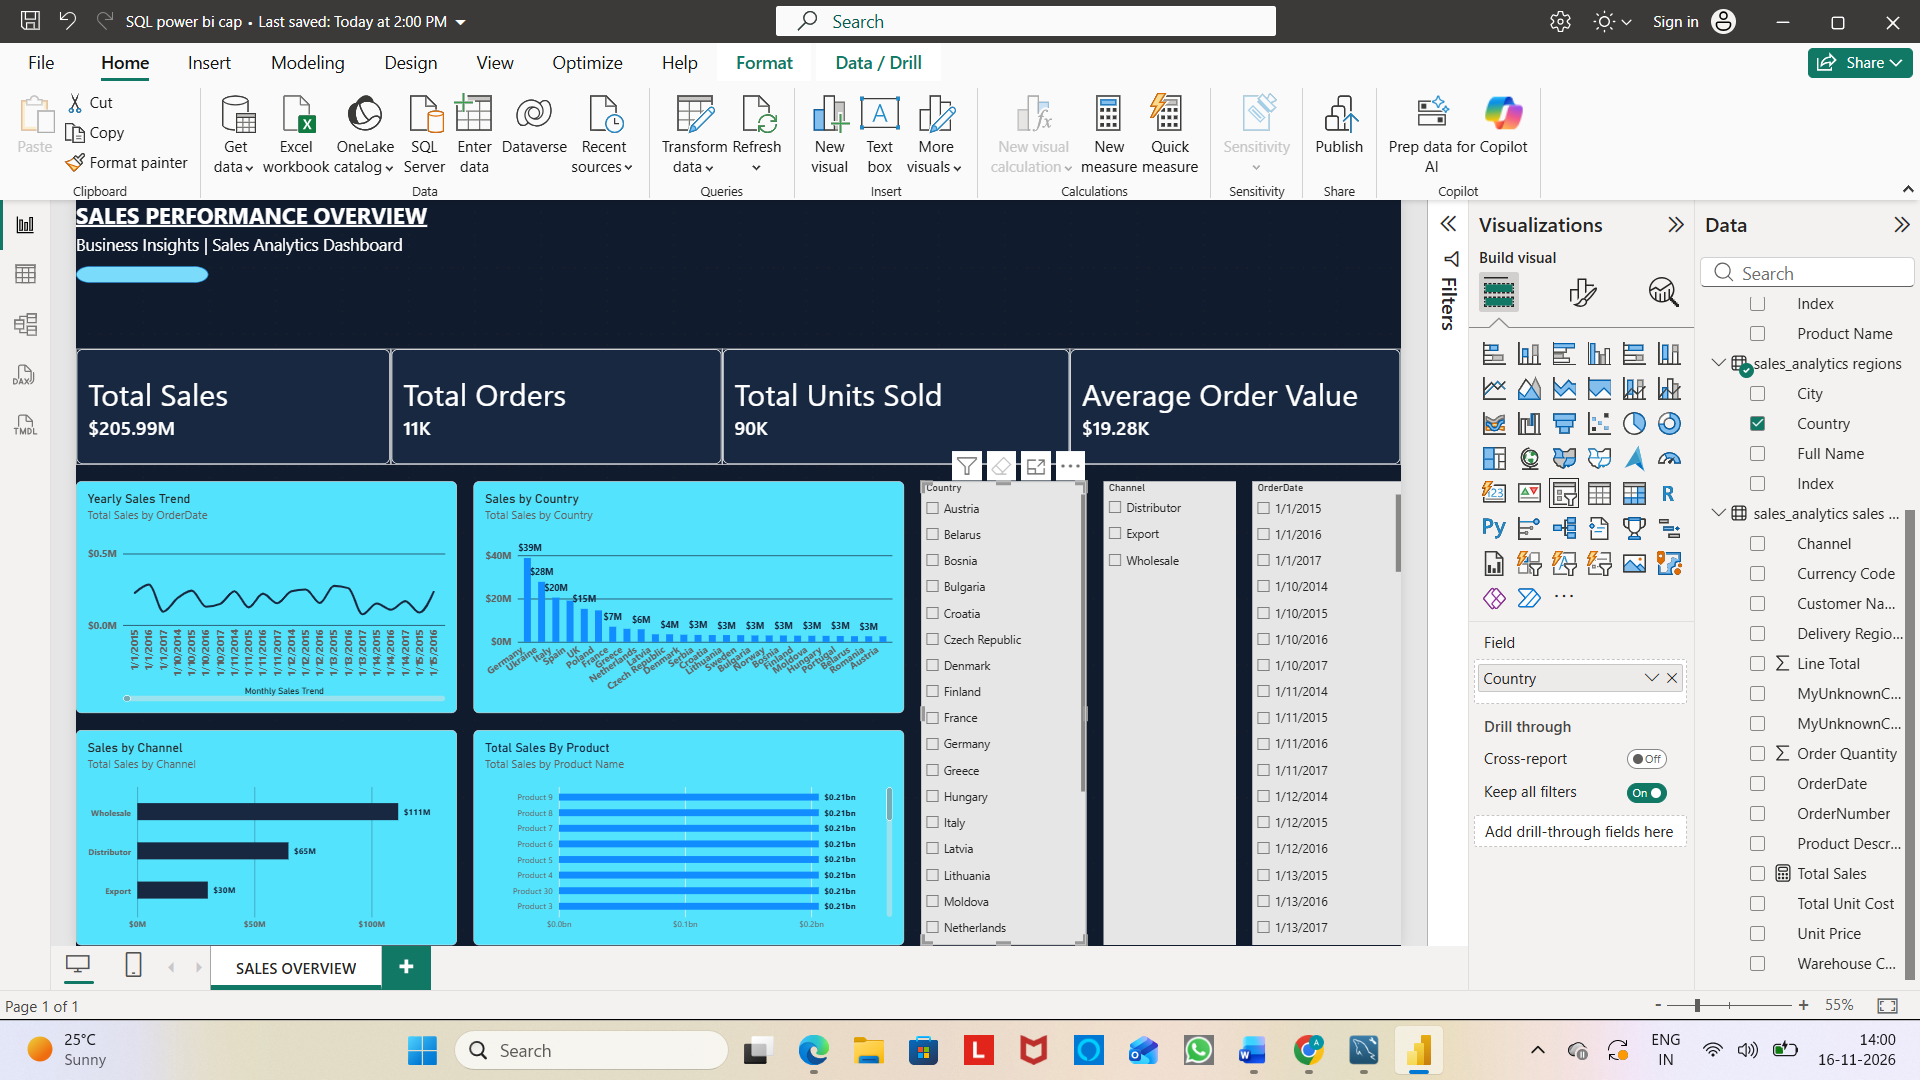

This screenshot's page, from the dashboard's own definition file:
{"tool":"powerbi","page":{"name":"SALES OVERVIEW","canvas":[1920,1080],"ordinal":0},"visuals":[{"type":"textbox","box":[0,0,1920,96],"z":0},{"type":"textbox","box":[0,48,1920,72],"z":1000},{"type":"shape","box":[0,96,192,24],"z":2000},{"type":"cardVisual","fields":{"Data":["sales_analytics sales order.Total Sales"]},"box":[0,216,456,168],"z":3000},{"type":"cardVisual","fields":{"Data":["sales_analytics 2017 budgets.Total Orders"]},"box":[456,216,480,168],"z":4000},{"type":"cardVisual","fields":{"Data":["sales_analytics 2017 budgets.Total Units Sold"]},"box":[936,216,504,168],"z":5000},{"type":"cardVisual","fields":{"Data":["sales_analytics 2017 budgets.Average Order Value"]},"box":[1440,216,480,168],"z":6000},{"type":"lineChart","title":"\tYearly Sales Trend","fields":{"Category":["sales_analytics sales order.OrderDate"],"Y":["sales_analytics sales order.Total Sales"]},"box":[0,408,552,336],"z":6001},{"type":"clusteredBarChart","title":"Sales by Channel","fields":{"Category":["sales_analytics sales order.Channel"],"Y":["sales_analytics sales order.Total Sales"]},"box":[0,768,552,312],"z":6002},{"type":"clusteredColumnChart","title":"Sales by Country","fields":{"Category":["sales_analytics regions.Country"],"Y":["sales_analytics sales order.Total Sales"]},"box":[576,408,624,336],"z":6003},{"type":"clusteredBarChart","title":"Total Sales By Product ","fields":{"Category":["sales_analytics 2017 budgets.Product Name"],"Y":["sales_analytics sales order.Total Sales"]},"box":[576,768,624,312],"z":6004},{"type":"slicer","fields":{"Values":["sales_analytics regions.Country"]},"box":[1224,408,240,672],"z":6005},{"type":"slicer","fields":{"Values":["sales_analytics sales order.Channel"]},"box":[1488,408,192,672],"z":6006},{"type":"slicer","fields":{"Values":["sales_analytics sales order.OrderDate"]},"box":[1704,408,216,672],"z":6007}]}

Visuals, with their boxes on the page's 1920x1080 design canvas (x1, y1, x2, y2). These are canvas units, not pixel positions in the 1920x1080 screenshot, which may show the page scaled, cropped or inside an application window:
textbox: {"x1": 0, "y1": 0, "x2": 1920, "y2": 96}
textbox: {"x1": 0, "y1": 48, "x2": 1920, "y2": 120}
shape: {"x1": 0, "y1": 96, "x2": 192, "y2": 120}
cardVisual - sales_analytics sales order.Total Sales: {"x1": 0, "y1": 216, "x2": 456, "y2": 384}
cardVisual - sales_analytics 2017 budgets.Total Orders: {"x1": 456, "y1": 216, "x2": 936, "y2": 384}
cardVisual - sales_analytics 2017 budgets.Total Units Sold: {"x1": 936, "y1": 216, "x2": 1440, "y2": 384}
cardVisual - sales_analytics 2017 budgets.Average Order Value: {"x1": 1440, "y1": 216, "x2": 1920, "y2": 384}
"	Yearly Sales Trend" lineChart: {"x1": 0, "y1": 408, "x2": 552, "y2": 744}
"Sales by Channel" clusteredBarChart: {"x1": 0, "y1": 768, "x2": 552, "y2": 1080}
"Sales by Country" clusteredColumnChart: {"x1": 576, "y1": 408, "x2": 1200, "y2": 744}
"Total Sales By Product " clusteredBarChart: {"x1": 576, "y1": 768, "x2": 1200, "y2": 1080}
slicer - sales_analytics regions.Country: {"x1": 1224, "y1": 408, "x2": 1464, "y2": 1080}
slicer - sales_analytics sales order.Channel: {"x1": 1488, "y1": 408, "x2": 1680, "y2": 1080}
slicer - sales_analytics sales order.OrderDate: {"x1": 1704, "y1": 408, "x2": 1920, "y2": 1080}
